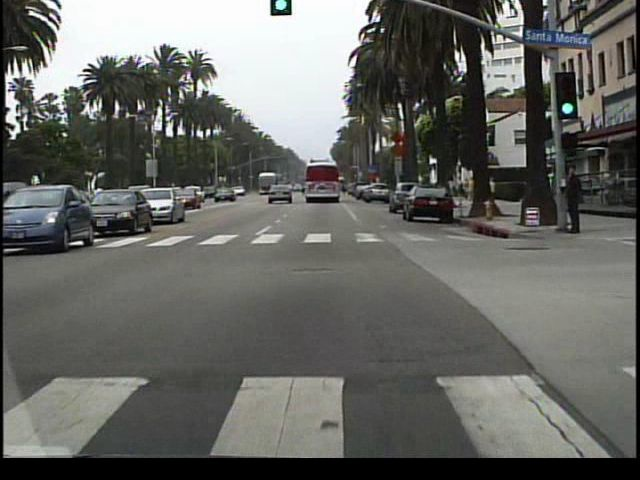person: (558, 159, 582, 237)
